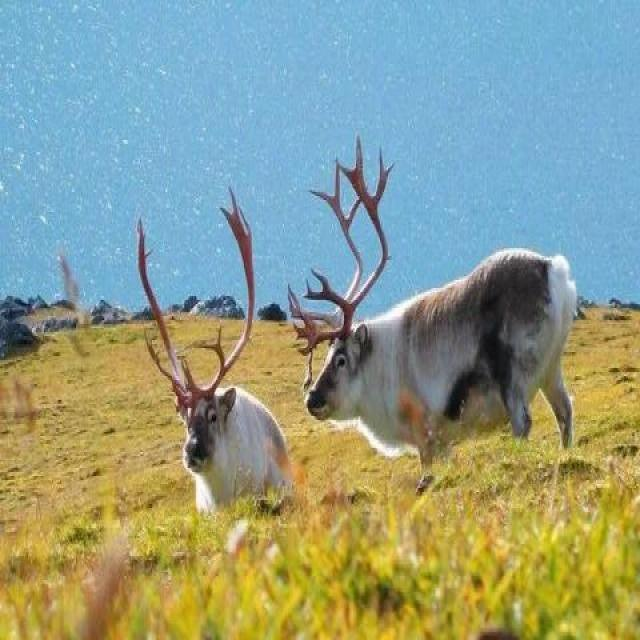deer: (290, 188, 586, 507), (120, 286, 306, 581)
